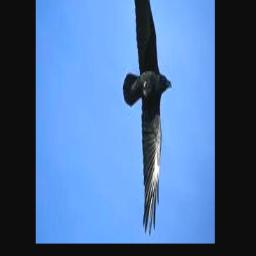Crow: (122, 0, 172, 233)
